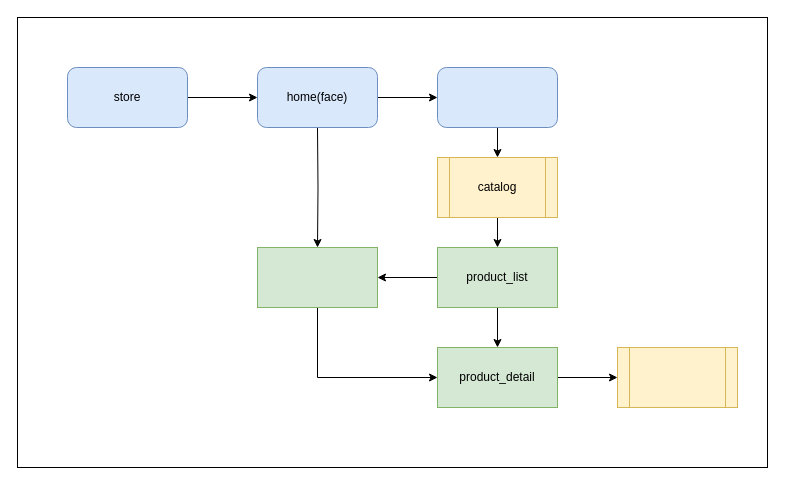
Some shapes in this 785 by 485 pixel diagram are drawn without their labels. Each missing label, with the centre of its shape:
"basket" goes at [677,377].
"popular_product" goes at [317,277].
"product" goes at [497,97].
